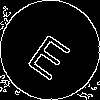E: (25, 25, 78, 82)
